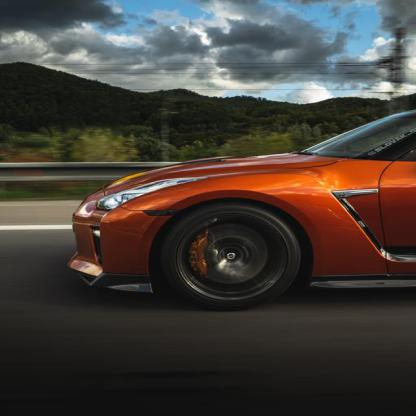Tire: (157, 203, 303, 311)
